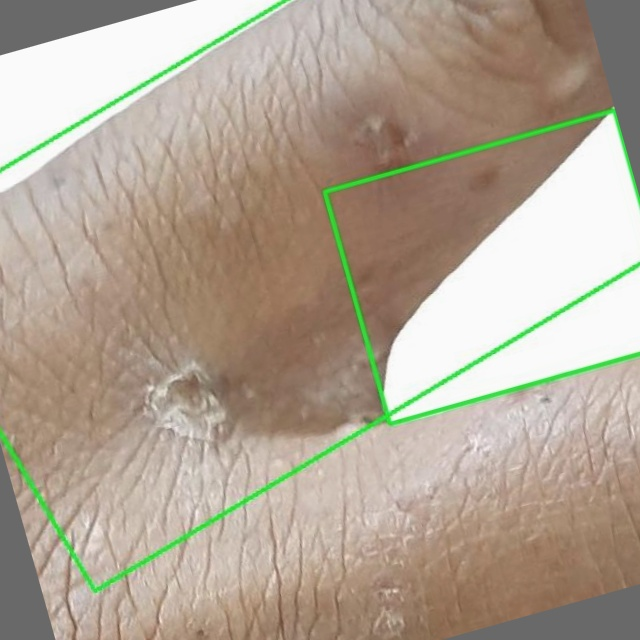Scabies: (0, 0, 639, 592), (324, 110, 639, 423)
